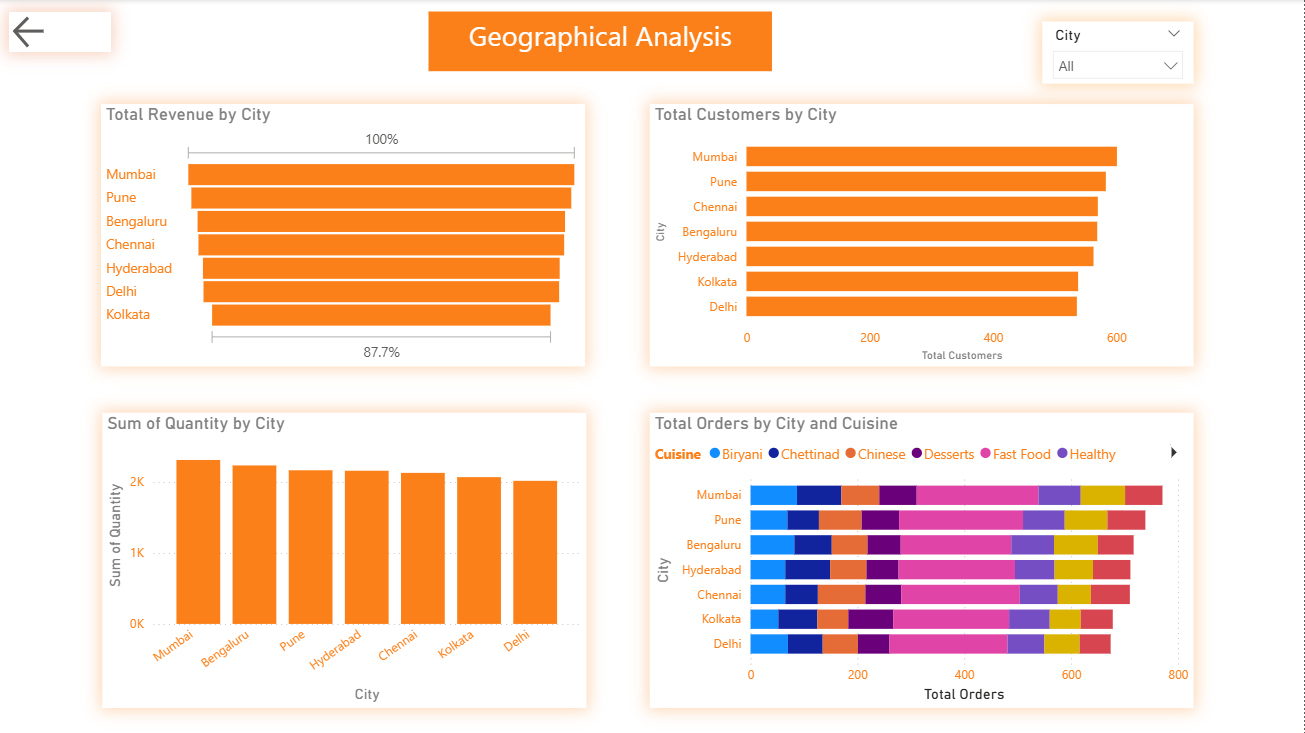

What the dashboard file says about the page in this screenshot:
{"tool":"powerbi","page":{"name":"Geographical","canvas":[1280,720],"ordinal":3},"visuals":[{"type":"textbox","box":[423.1,12.2,336.3,58.7],"z":0},{"type":"funnel","fields":{"Category":["swiggy_synthetic_dataset_5000.City"],"Y":["swiggy_synthetic_dataset_5000.Total Revenue"]},"box":[102.7,102.7,473.2,256.8],"z":1000},{"type":"barChart","fields":{"Category":["swiggy_synthetic_dataset_5000.City"],"Y":["swiggy_synthetic_dataset_5000.Total Customers"]},"box":[639.5,102.7,531.9,256.8],"z":2000},{"type":"columnChart","fields":{"Category":["swiggy_synthetic_dataset_5000.City"],"Y":["Sum(swiggy_synthetic_dataset_5000.Quantity)"]},"box":[103.9,404.8,473.2,288.6],"z":3000},{"type":"barChart","fields":{"Category":["swiggy_synthetic_dataset_5000.City"],"Series":["swiggy_synthetic_dataset_5000.Cuisine"],"Y":["swiggy_synthetic_dataset_5000.Total Orders"]},"box":[639.5,404.8,531.9,288.6],"z":4000},{"type":"actionButton","box":[12.2,12.2,100.3,40.4],"z":5000},{"type":"slicer","fields":{"Values":["swiggy_synthetic_dataset_5000.City"]},"box":[1023.5,22,148,61.1],"z":5001}]}

Visuals, with their boxes in screenshot pixels (x1, y1, x2, y2), scaled from the page's 1280x720 canvas onto the 1305x733 screenshot:
textbox: box(431, 12, 774, 72)
funnel - swiggy_synthetic_dataset_5000.City x swiggy_synthetic_dataset_5000.Total Revenue: box(105, 105, 587, 366)
barChart - swiggy_synthetic_dataset_5000.City x swiggy_synthetic_dataset_5000.Total Customers: box(652, 105, 1194, 366)
columnChart - swiggy_synthetic_dataset_5000.City x Sum(swiggy_synthetic_dataset_5000.Quantity): box(106, 412, 588, 706)
barChart - swiggy_synthetic_dataset_5000.City x swiggy_synthetic_dataset_5000.Cuisine: box(652, 412, 1194, 706)
actionButton: box(12, 12, 115, 54)
slicer - swiggy_synthetic_dataset_5000.City: box(1043, 22, 1194, 85)
